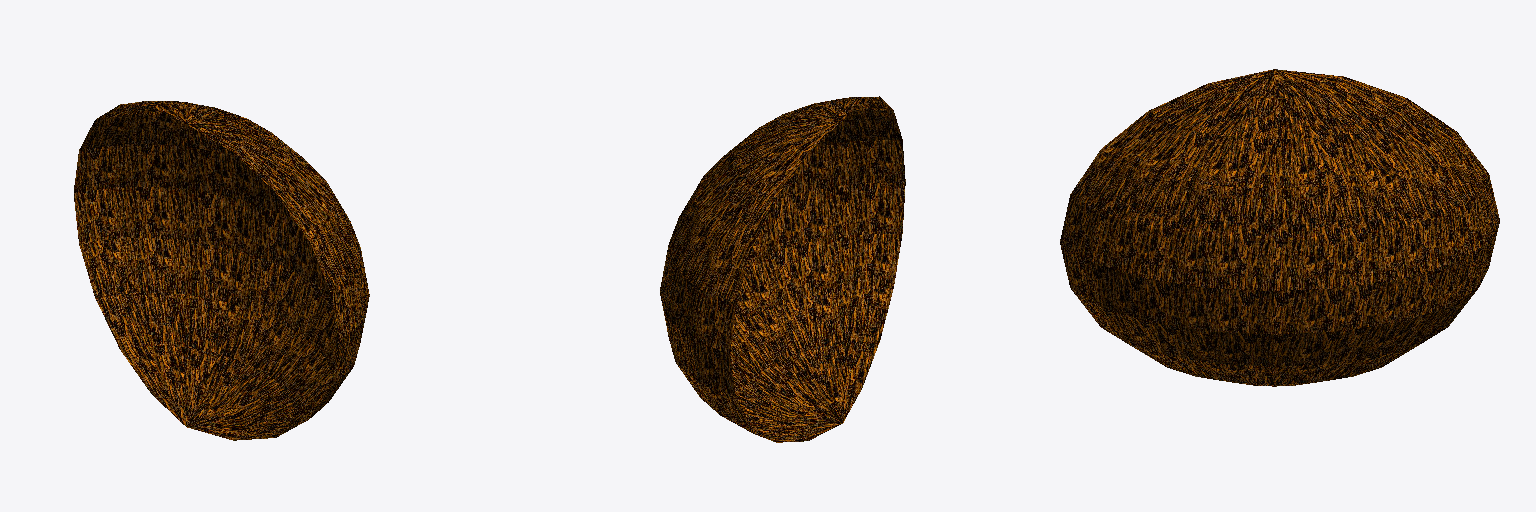
The picture shows the model from 3 angles: view 1: azimuth 30°, elevation 25°; view 2: azimuth 150°, elevation 25°; view 3: azimuth 270°, elevation 25°; orthographic projection.
Parts seen in each view (by area): view 1: Mesh1 SimpleSphere02_1 Model; view 2: Mesh1 SimpleSphere02_1 Model; view 3: Mesh1 SimpleSphere02_1 Model.
Boxes of the visible parts, <box> form: Mesh1 SimpleSphere02_1 Model: <box>74,101,369,440</box>; Mesh1 SimpleSphere02_1 Model: <box>660,96,905,442</box>; Mesh1 SimpleSphere02_1 Model: <box>1060,69,1499,386</box>.
Bounding box in the file's own units: 24.75 × 49.51 × 65.2.
1 materials, 1 textured.